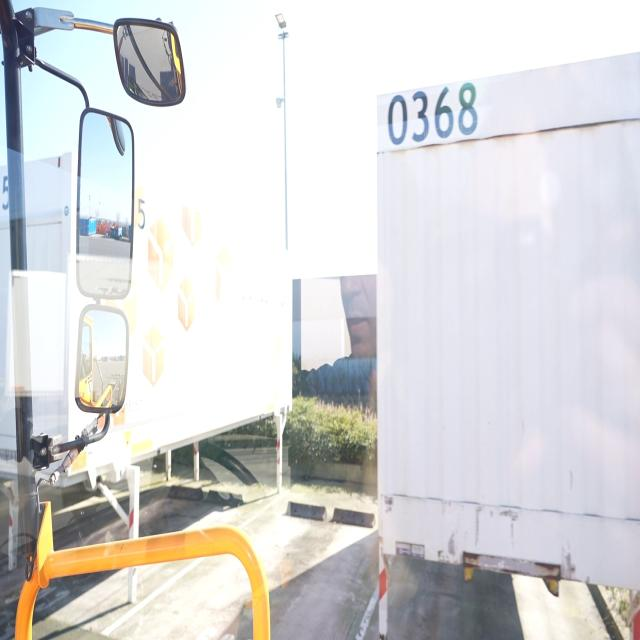Code: (385, 76, 484, 149)
